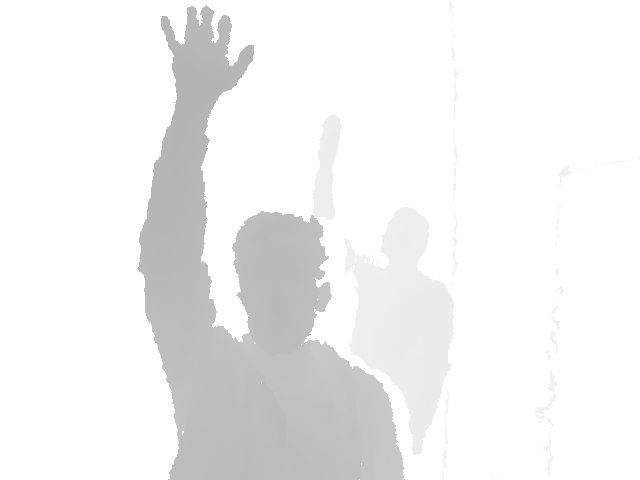hand: (161, 4, 254, 100), (317, 113, 340, 164)
head: (233, 211, 332, 355), (381, 206, 430, 274)
person: (138, 5, 405, 479), (312, 113, 455, 455)
